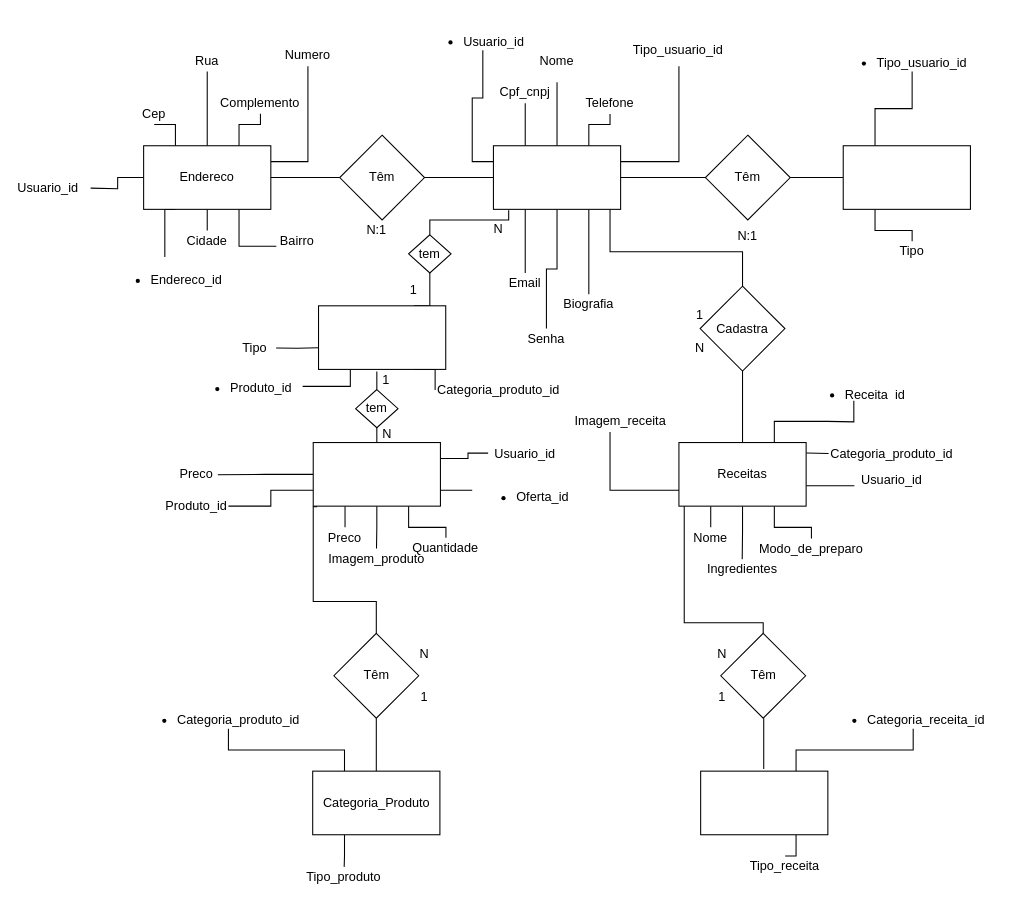
The diagram is 1022 pixels wide and 906 high, and some of its shapes have lost their labels. The centre of each missing label's shape, as x and y in pixels:
"Categoria_Receita" belongs at point (764, 802).
"Oferta" belongs at point (376, 473).
"Produto" belongs at point (381, 337).
"Tipo_usuario" belongs at point (906, 177).
"Usuario" belongs at point (556, 177).
